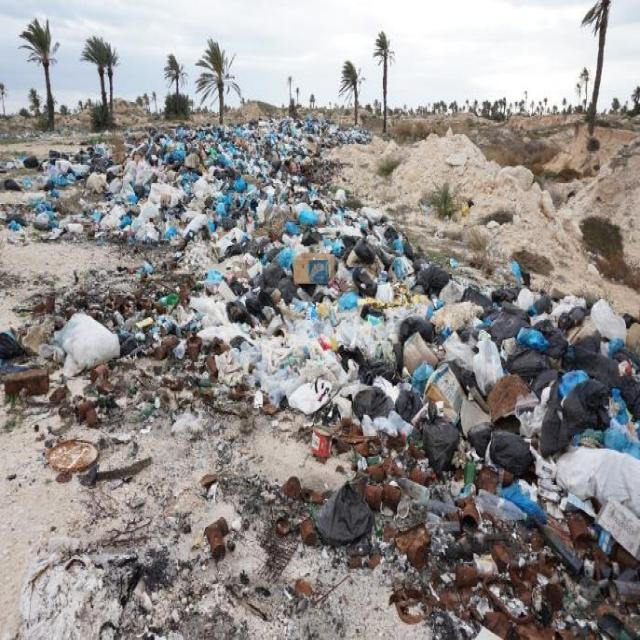garbage: (26, 117, 640, 640)
